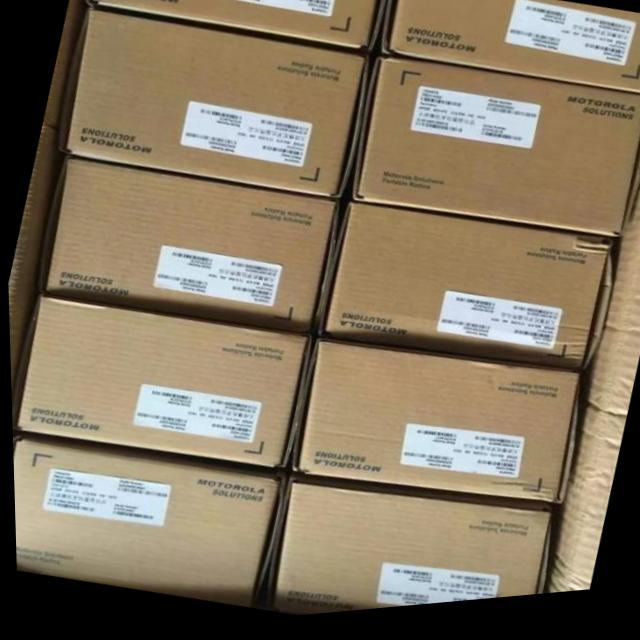box: (7, 0, 640, 620), (56, 11, 367, 202), (35, 157, 338, 340), (349, 64, 640, 248), (9, 295, 309, 472), (314, 207, 611, 381), (288, 343, 577, 513), (10, 435, 283, 610), (260, 480, 548, 619), (381, 0, 640, 106), (84, 0, 386, 57)
